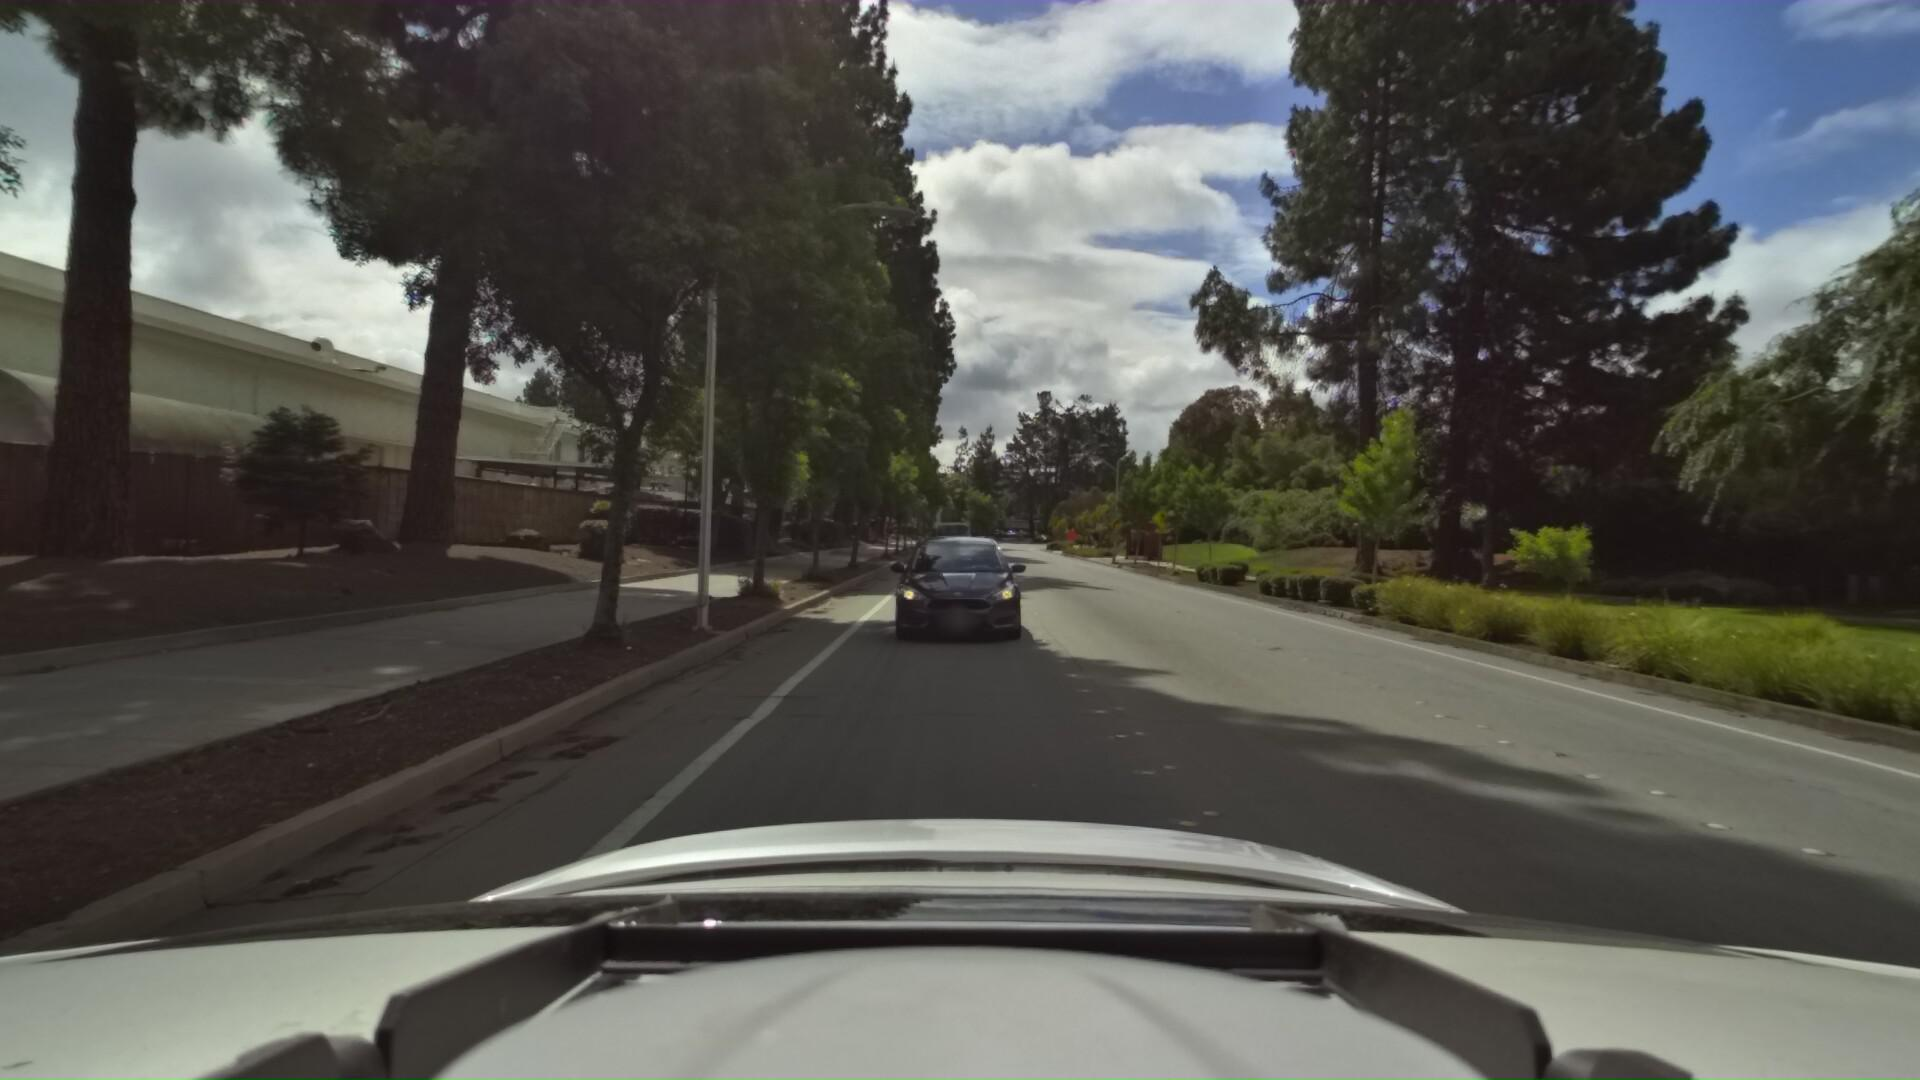car: (876, 525, 1036, 665), (928, 513, 973, 562)
